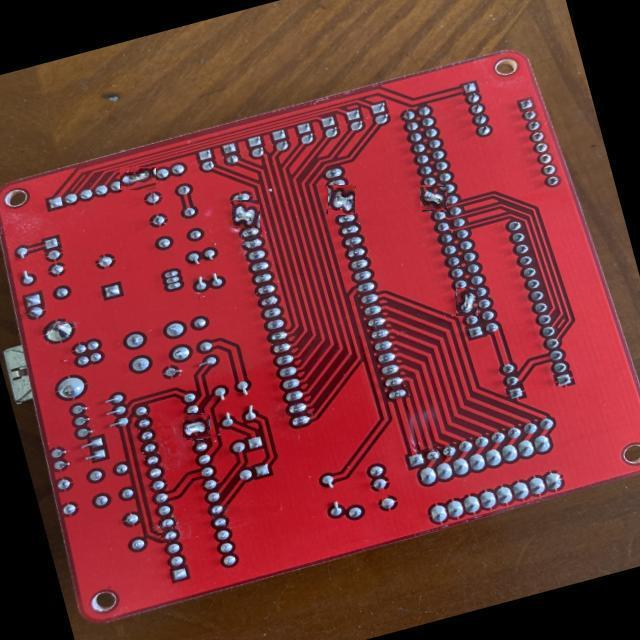damged: (326, 186, 356, 215), (120, 167, 156, 190), (233, 201, 260, 228), (421, 186, 447, 211), (184, 414, 209, 439), (456, 288, 478, 316)
